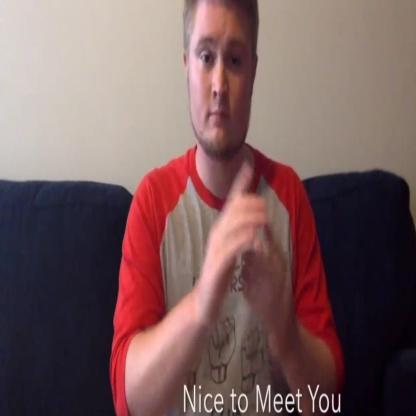NiceToMeetYou: (198, 162, 301, 363)
